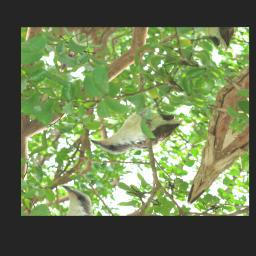Cuckoo: (89, 88, 186, 175)
